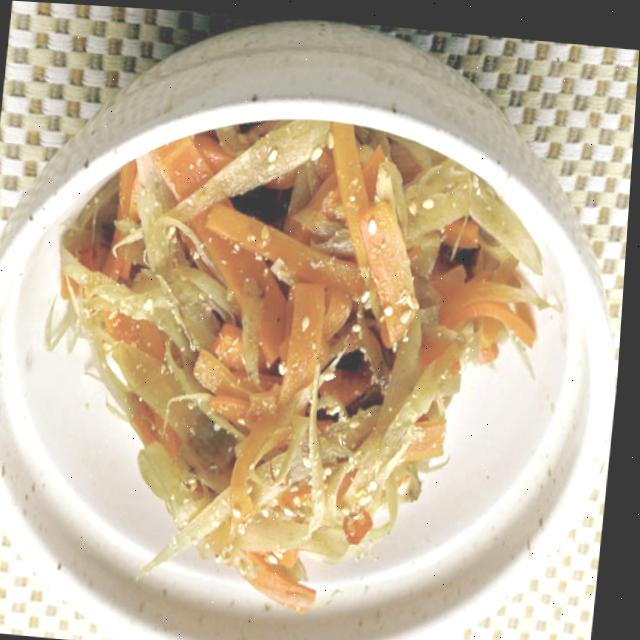蔬菜料理: (0, 6, 640, 640)
